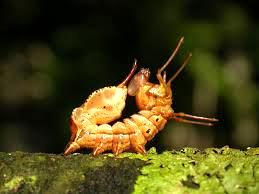Lobster Moth: (59, 59, 197, 167)
